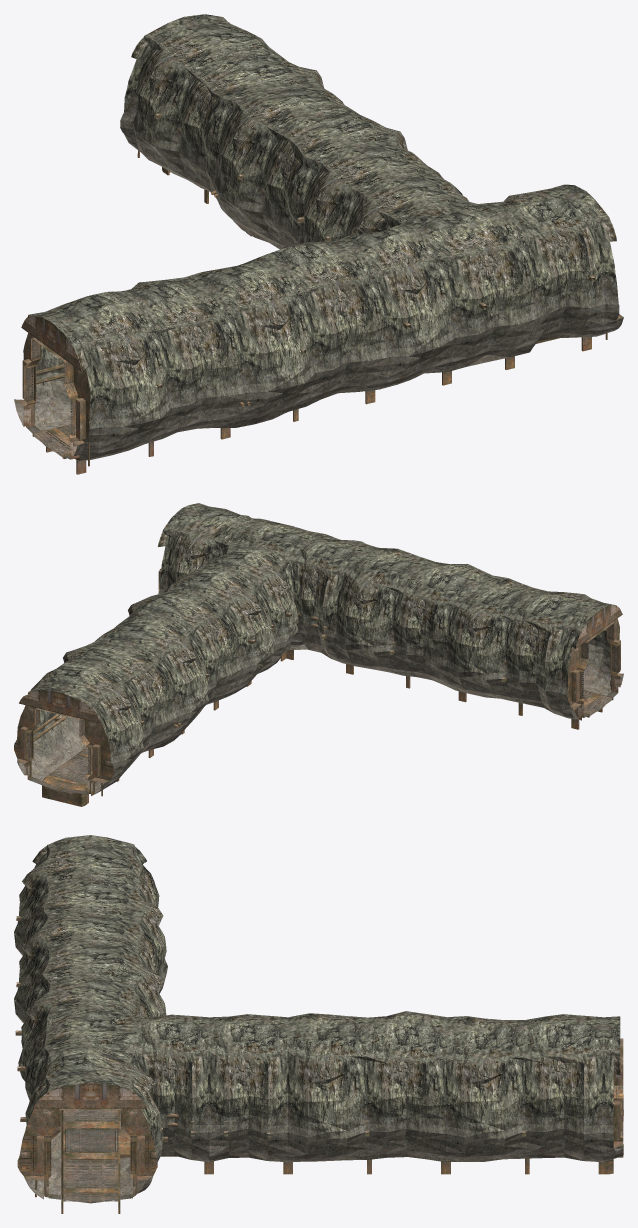
The model's file is poi_all_bunker_allum_mine_r45_hall45_mesh_r45.fbx.
3 views of the same model, one above another, from view 1: azimuth 30°, elevation 25°; view 2: azimuth 150°, elevation 25°; view 3: azimuth 270°, elevation 25° (orthographic). The views are drawn at different scales.
Visible parts, largest first — view 1: mesh_node; view 2: mesh_node; view 3: mesh_node.
Part boxes in pixels (bbox=[...]): mesh_node: bbox=[14, 14, 623, 474]; mesh_node: bbox=[14, 503, 623, 806]; mesh_node: bbox=[14, 835, 623, 1213].
Bounding box in the file's own units: 30 × 7.73 × 30.92.
